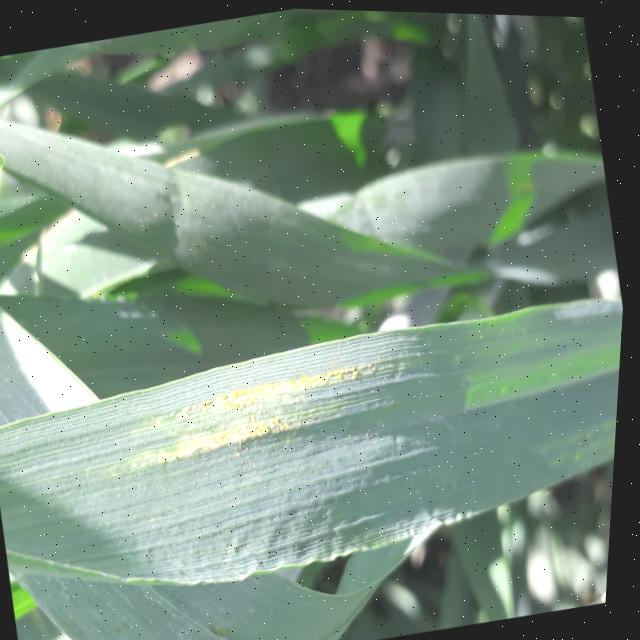yellow_rust: (0, 280, 532, 640)
